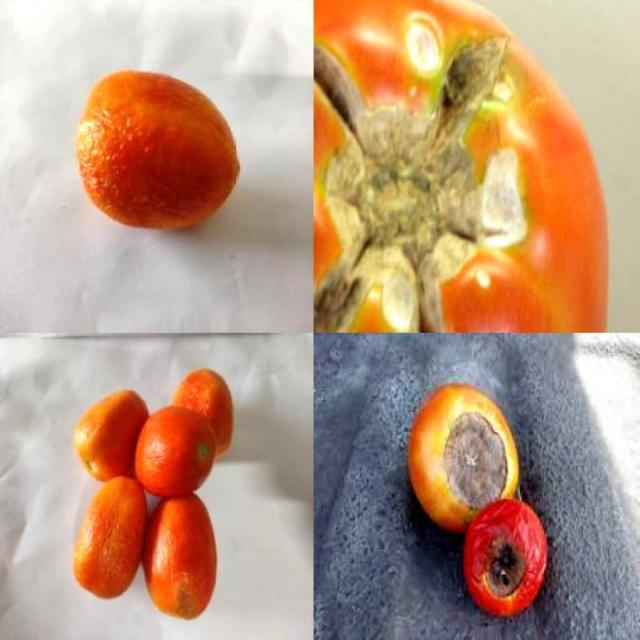Rotten_Tomato: (314, 0, 611, 333), (72, 64, 250, 243), (408, 383, 522, 528), (142, 491, 220, 626), (463, 499, 549, 619), (70, 474, 148, 602), (72, 386, 154, 485), (134, 402, 218, 498), (170, 365, 238, 465)
